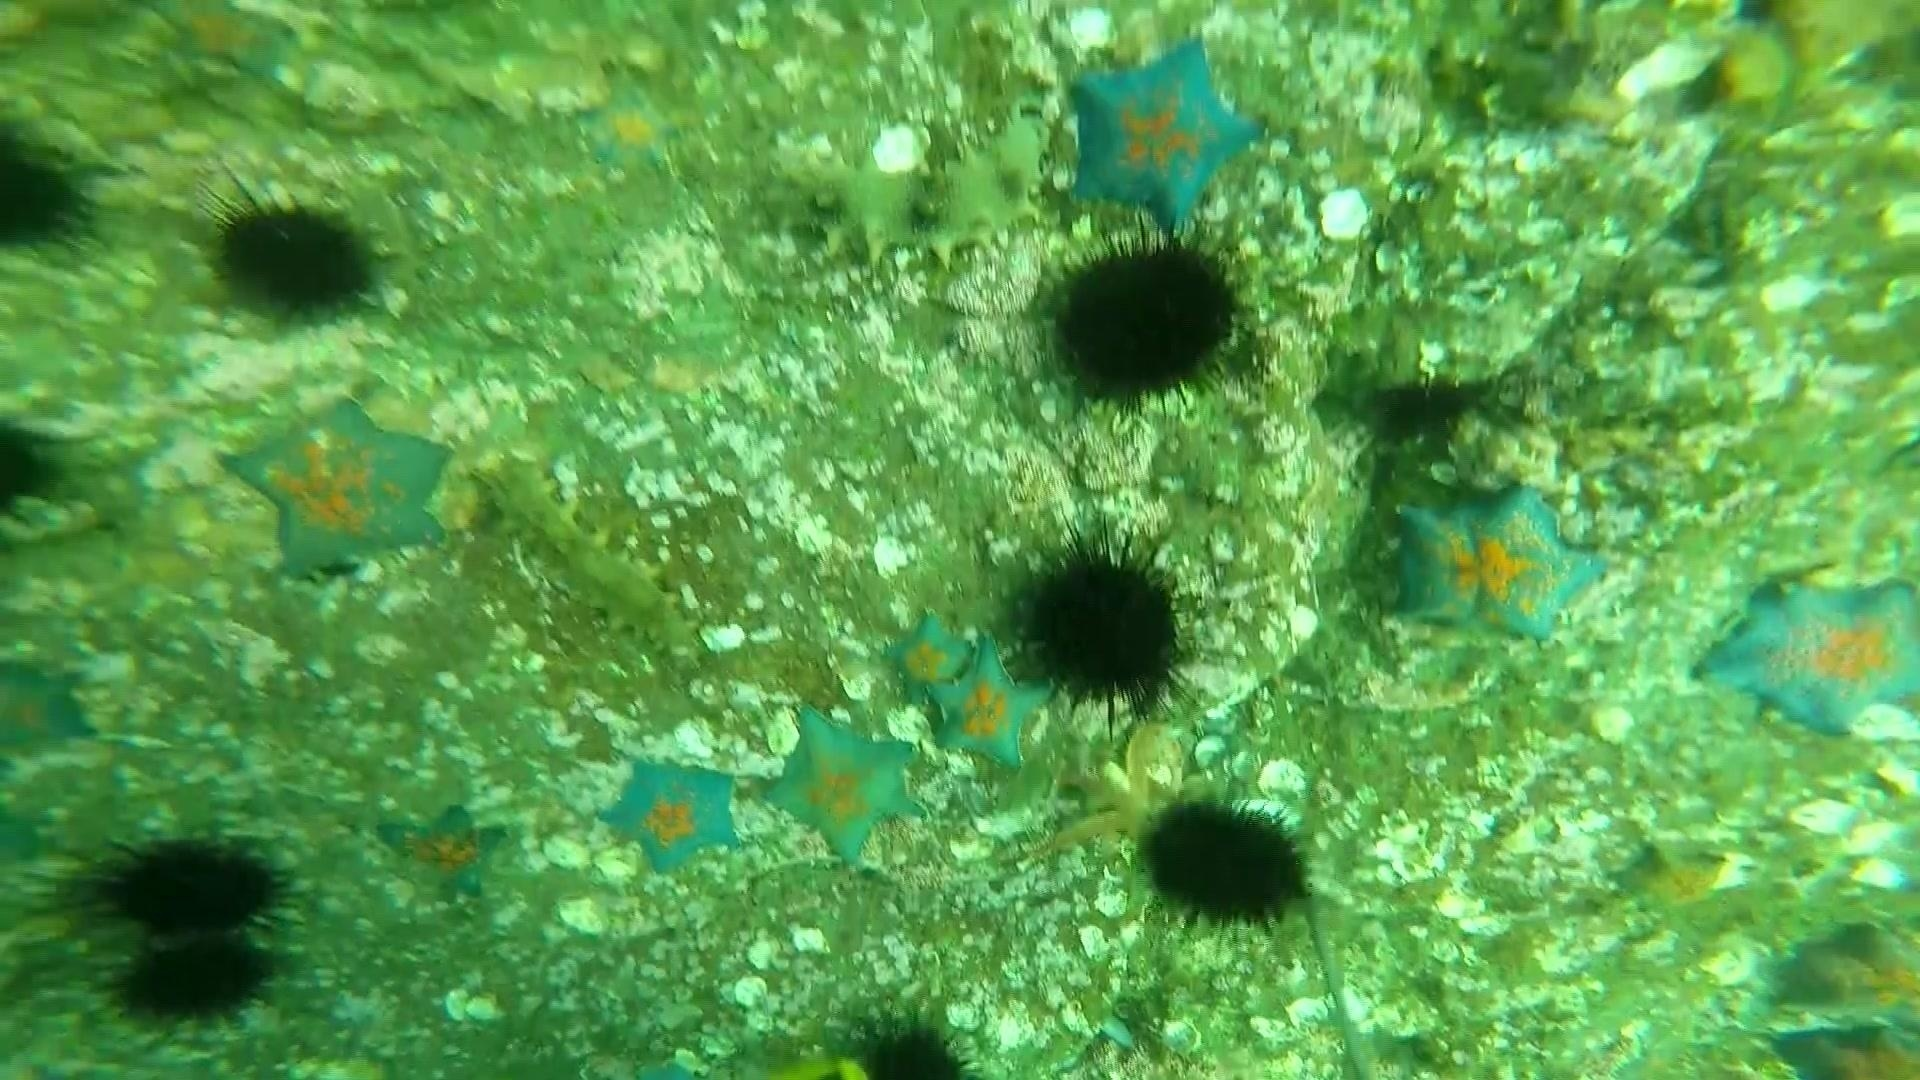echinus: (1040, 229, 1249, 415), (1013, 531, 1197, 719), (1131, 790, 1316, 938), (203, 187, 386, 327), (90, 831, 291, 939), (108, 930, 276, 1029), (1, 121, 96, 258), (1360, 367, 1485, 448), (835, 1010, 982, 1073), (1, 413, 67, 525)
holothurian: (748, 99, 1064, 277), (473, 451, 694, 655)
starfish: (218, 393, 458, 583), (1060, 40, 1266, 233), (1383, 477, 1607, 647), (1700, 568, 1919, 741), (761, 705, 924, 872), (1754, 915, 1917, 1065), (597, 756, 746, 880), (923, 637, 1054, 773), (376, 796, 512, 905), (574, 67, 688, 185), (158, 3, 298, 86), (1614, 837, 1749, 920), (880, 607, 982, 708), (1, 657, 98, 765), (1766, 1015, 1917, 1073)
